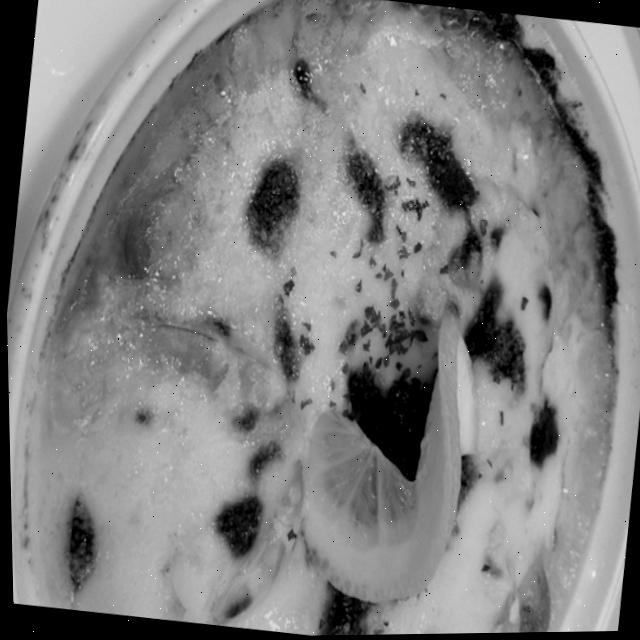米饭主食: (43, 2, 640, 639)
